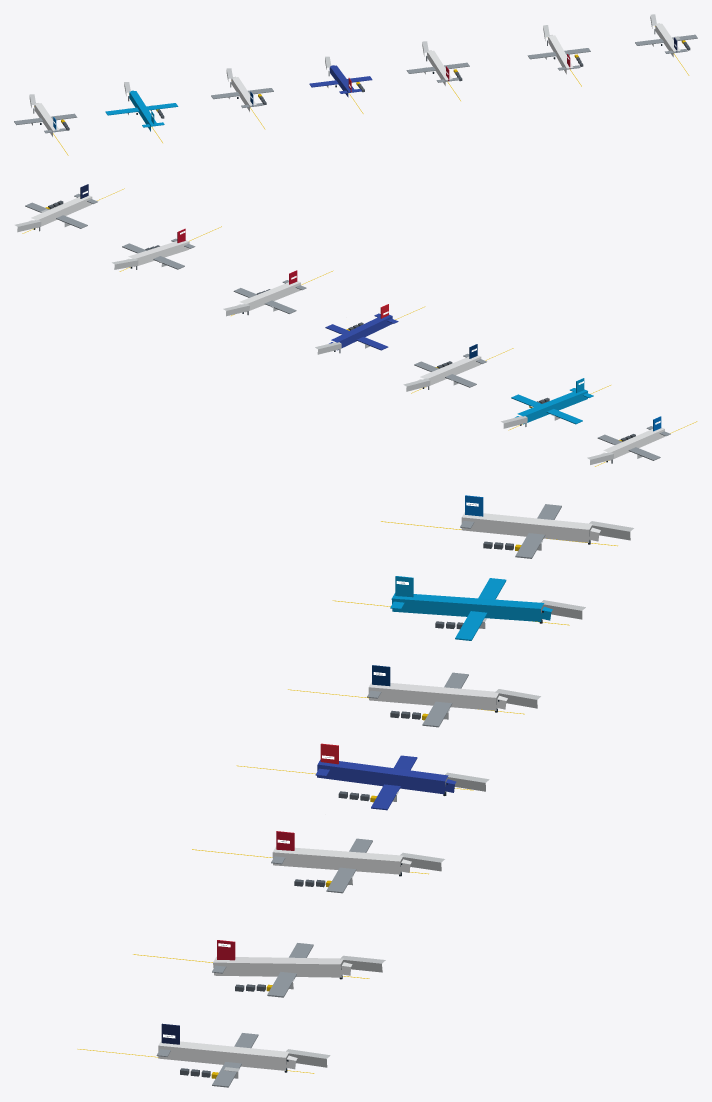
The model's file is airport_fx.glb.
3 renders of one model, top to bottom at view 1: azimuth 30°, elevation 25°; view 2: azimuth 150°, elevation 25°; view 3: azimuth 270°, elevation 25°, orthographic. The views are drawn at different scales.
Visible parts, largest first — view 1: airport_fx_lod0; view 2: airport_fx_lod0; view 3: airport_fx_lod0.
Boxes of the visible parts, x1,y1,x2,y2 form: airport_fx_lod0: (14,14,697,155); airport_fx_lod0: (15,184,697,466); airport_fx_lod0: (77,495,633,1087).
Size of what is drawn, in the model's own units: 374 by 12.47 by 150.
17 materials, 1 textured.
